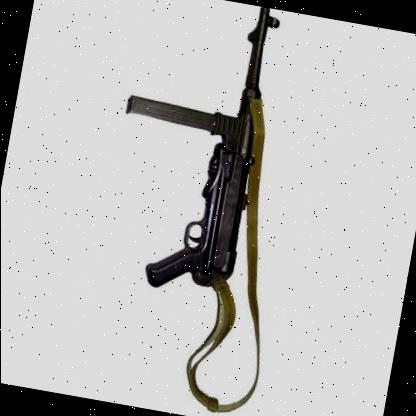rifle: (95, 0, 313, 315)
